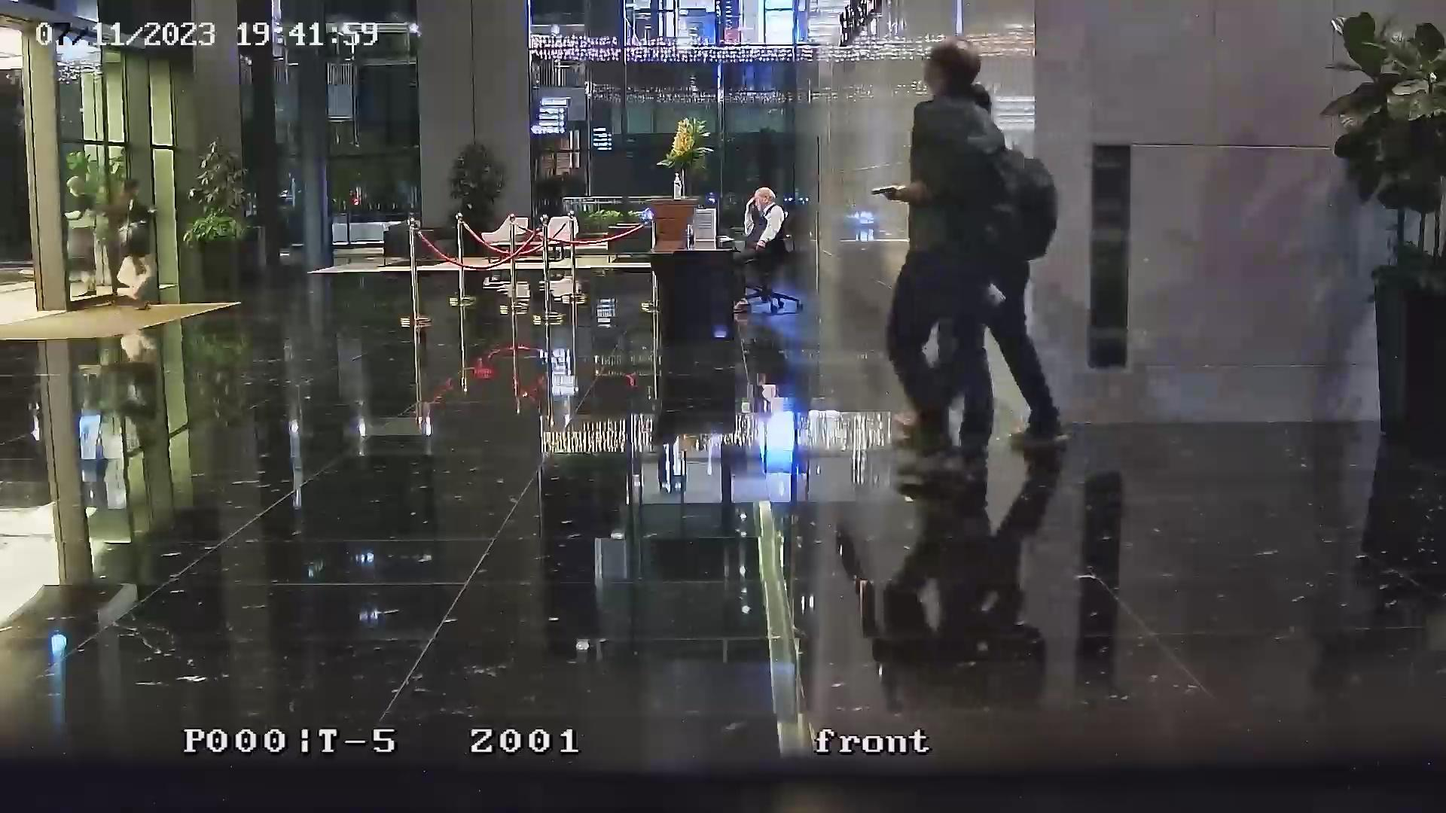person: (890, 40, 1071, 457), (882, 37, 1006, 455), (932, 81, 1071, 452), (107, 179, 157, 313), (65, 173, 95, 296), (741, 185, 789, 254)
